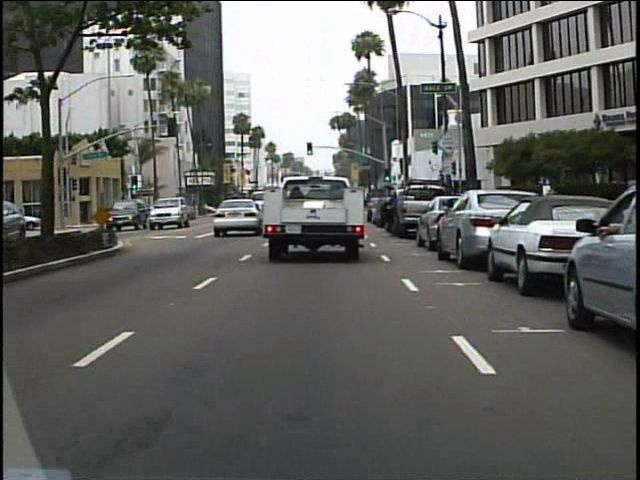person: (379, 184, 402, 235)
